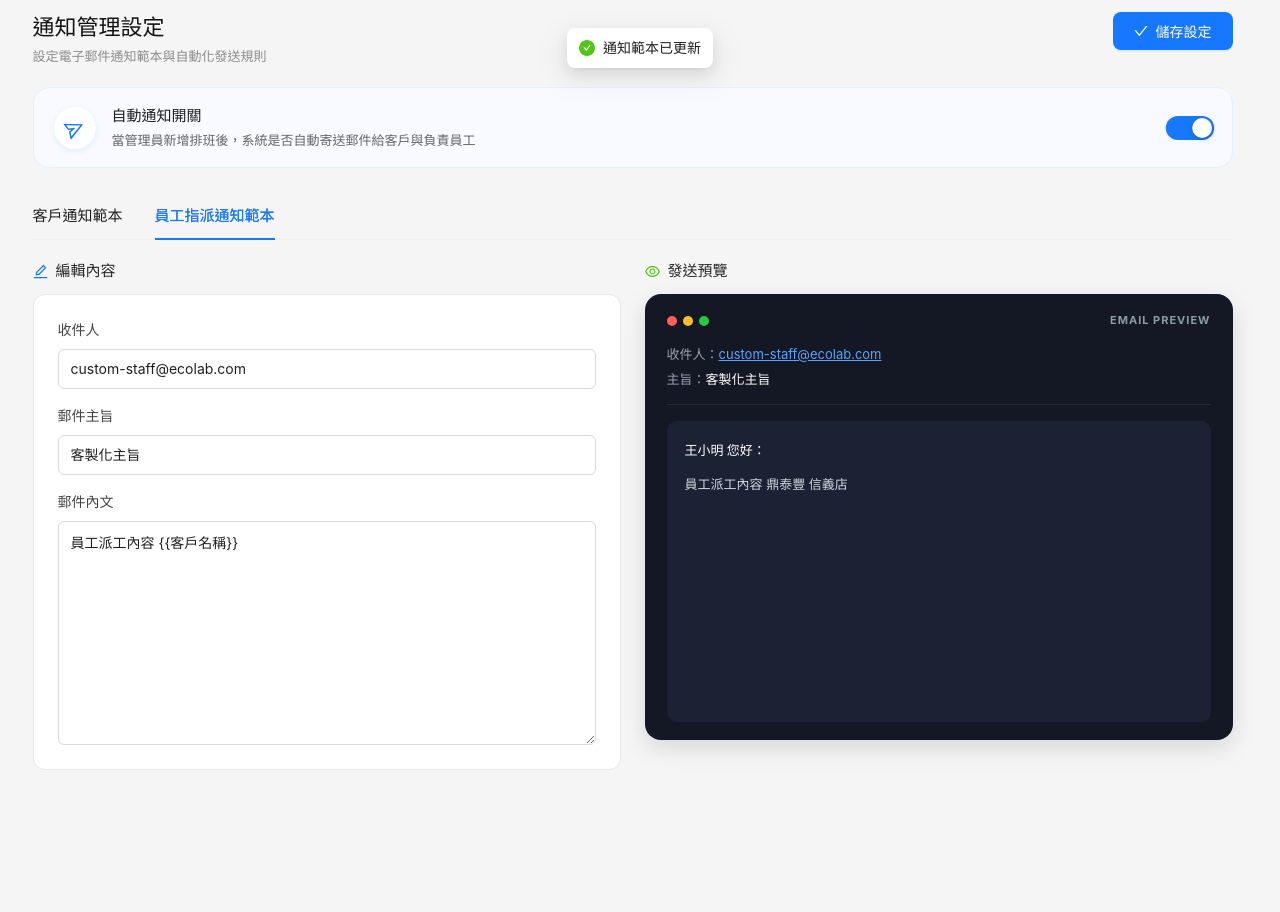
Test case: NotificationPage - 通知管理設定 › switches to customer template tab and displays customer preview
Click the tab "客戶通知範本": click(78, 216) [32,204,122,228]
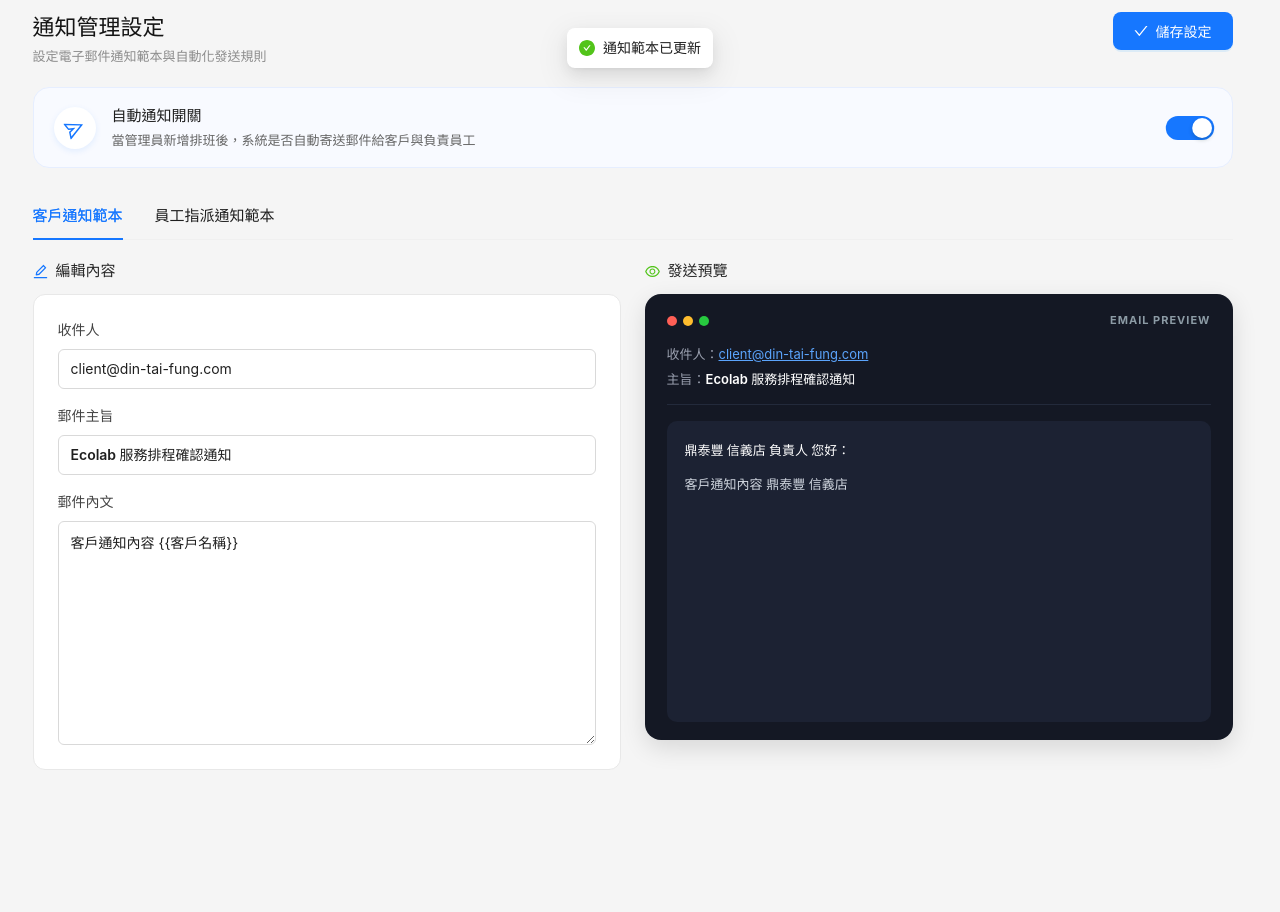
Check: the text "client@din-tai-fung.com" is shown, box [718,346,868,362]
Check: the field with test id "subject-input" holds "Ecolab 服務排程確認通知", box [58,435,596,475]
